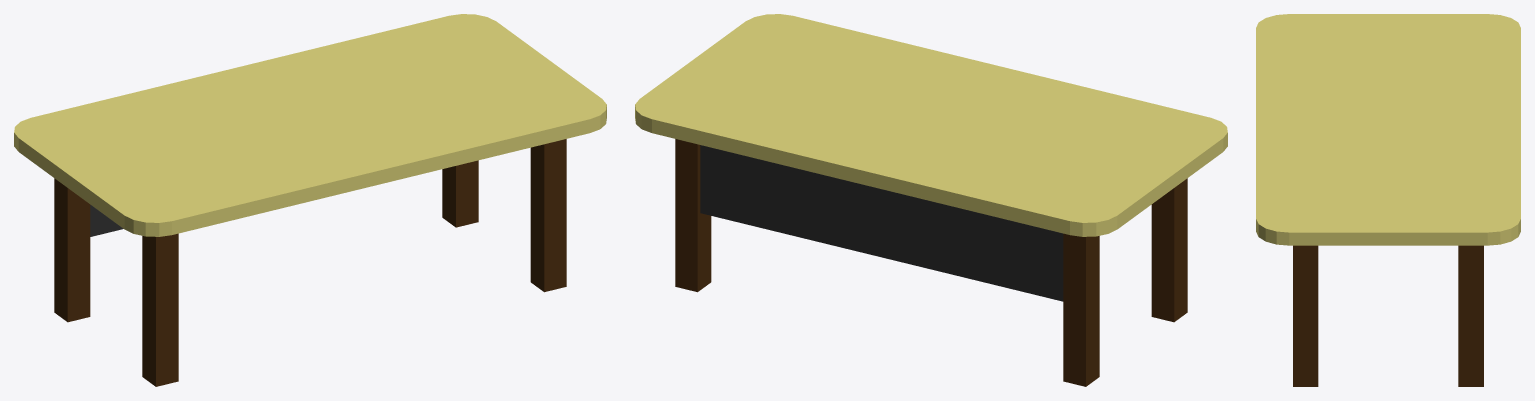
The model's file is mesa_professor.glb.
3 renders of one model, left to right at view 1: azimuth 30°, elevation 25°; view 2: azimuth 150°, elevation 25°; view 3: azimuth 270°, elevation 25°, orthographic. The views are drawn at different scales.
Visible parts, largest first — view 1: Cube; view 2: Cube; view 3: Cube.
Part boxes in pixels (x1,y1,x2,y2): Cube: [14, 14, 606, 386]; Cube: [635, 14, 1227, 386]; Cube: [1256, 14, 1520, 386].
Bounding box in the file's own units: 20.94 × 7.59 × 10.72.
